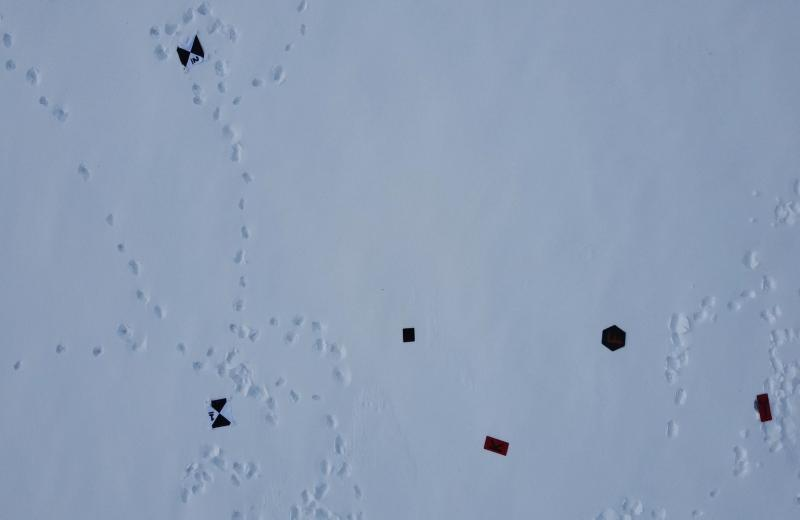Hexagon: (597, 318, 628, 354)
Rectangle: (482, 428, 510, 463), (747, 391, 775, 423)
Square: (396, 324, 418, 348)
